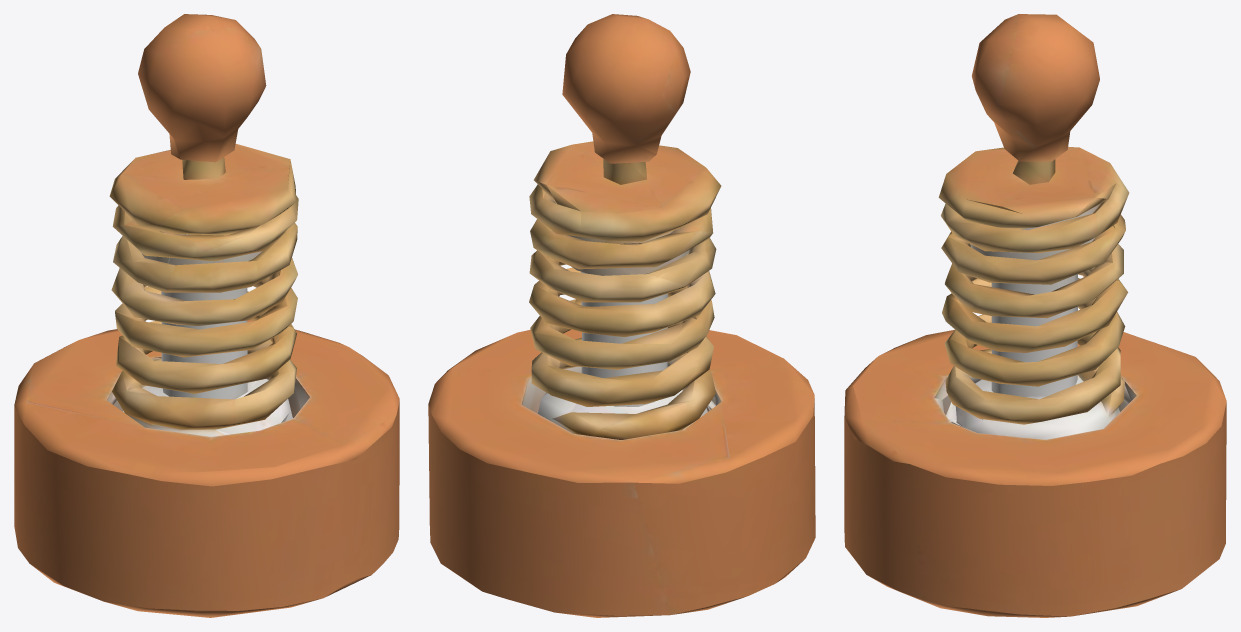
The model's file is m2PinballPlunger.glb.
The picture shows the model from 3 angles, left to right: view 1: azimuth 30°, elevation 25°; view 2: azimuth 150°, elevation 25°; view 3: azimuth 270°, elevation 25°; orthographic projection.
Parts seen in each view (by area): view 1: model; view 2: model; view 3: model.
Boxes of the visible parts, x1,y1,x2,y2 form: model: (14,14,399,617); model: (428,14,815,617); model: (844,14,1226,617).
Size of the model in its own units: 1.26 by 1.91 by 1.26.
Materials: 1 (1 with a texture image).
